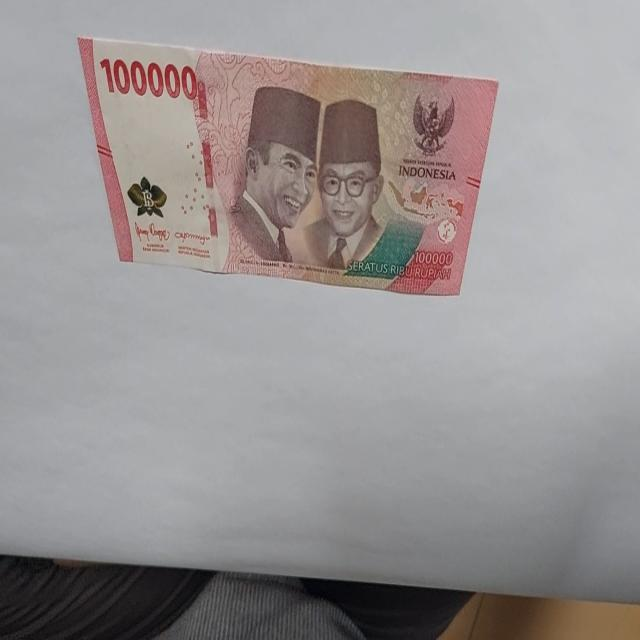seratus ribu rupiah: (77, 35, 500, 298), (228, 84, 321, 266)
